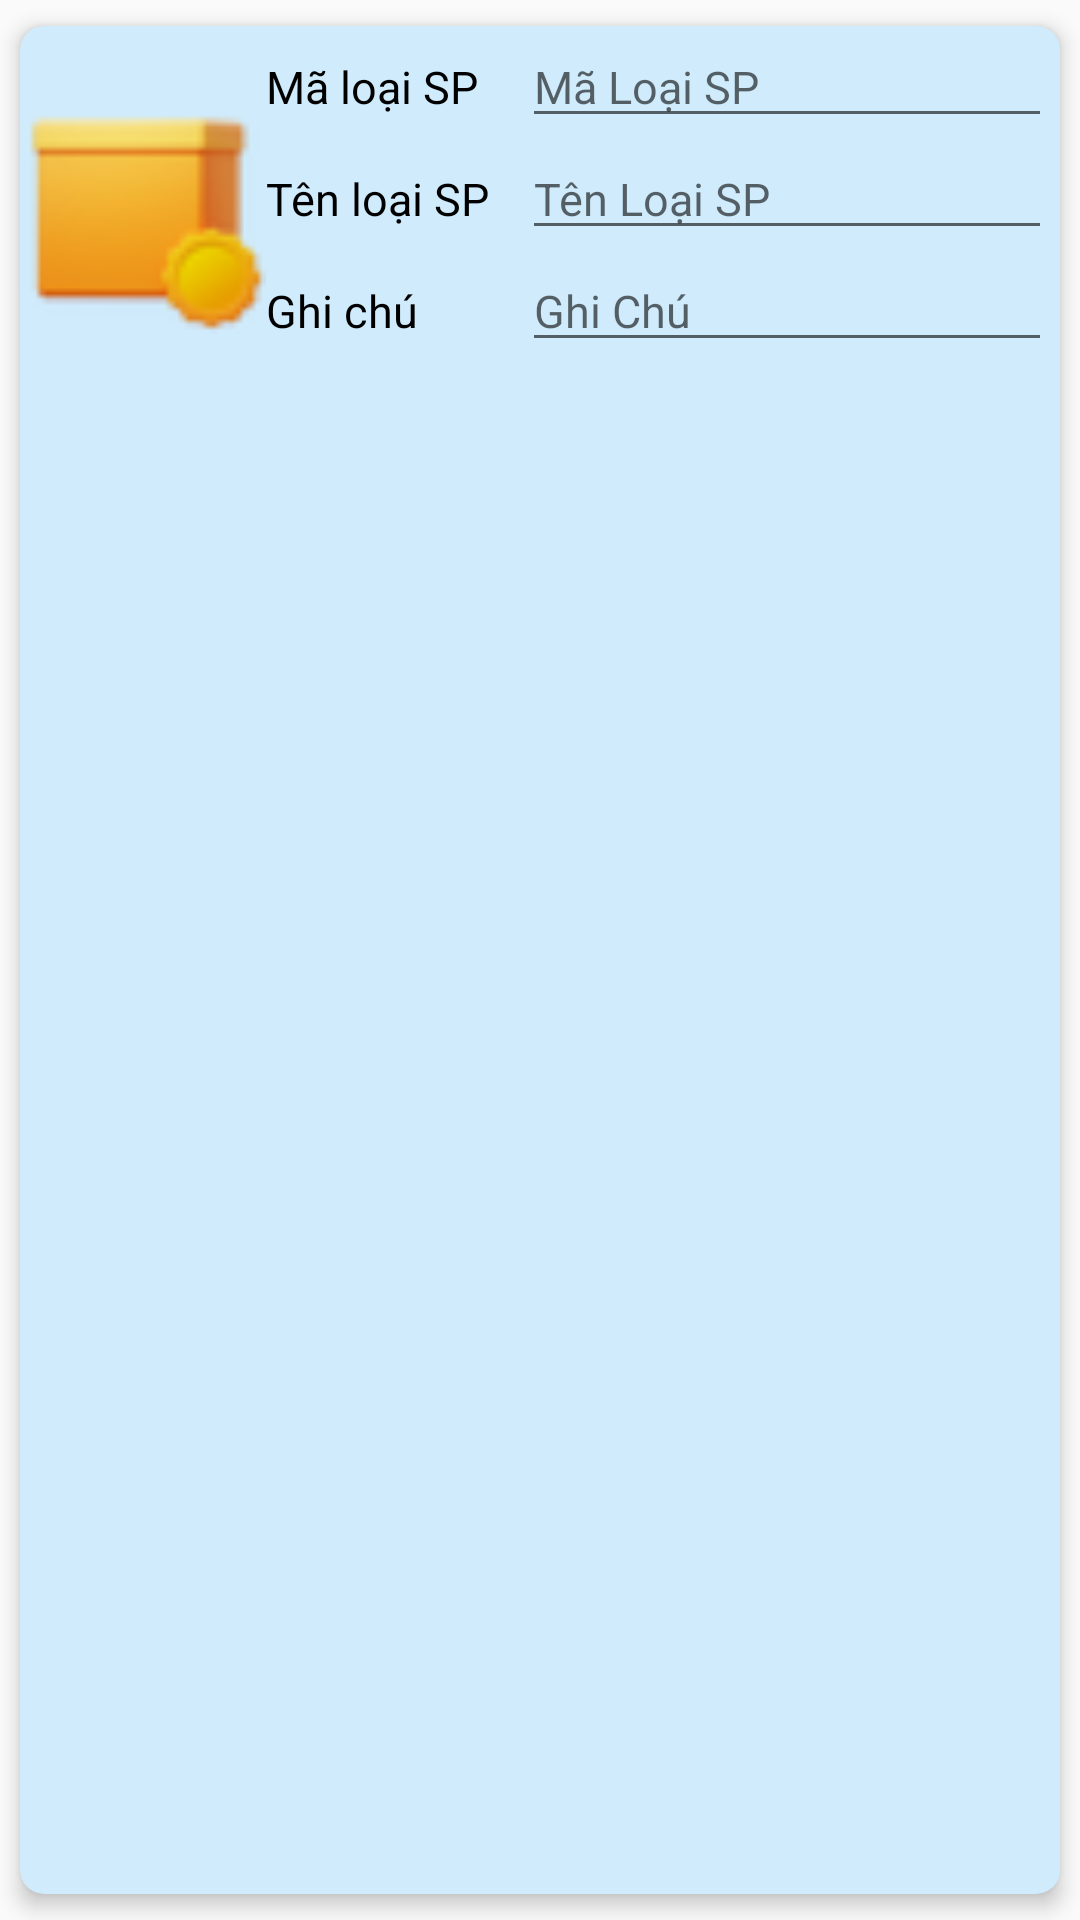

Screen size 1080 × 1920. Icon name, then its center in pixels as (x,y):
loaisp: (146,223)
